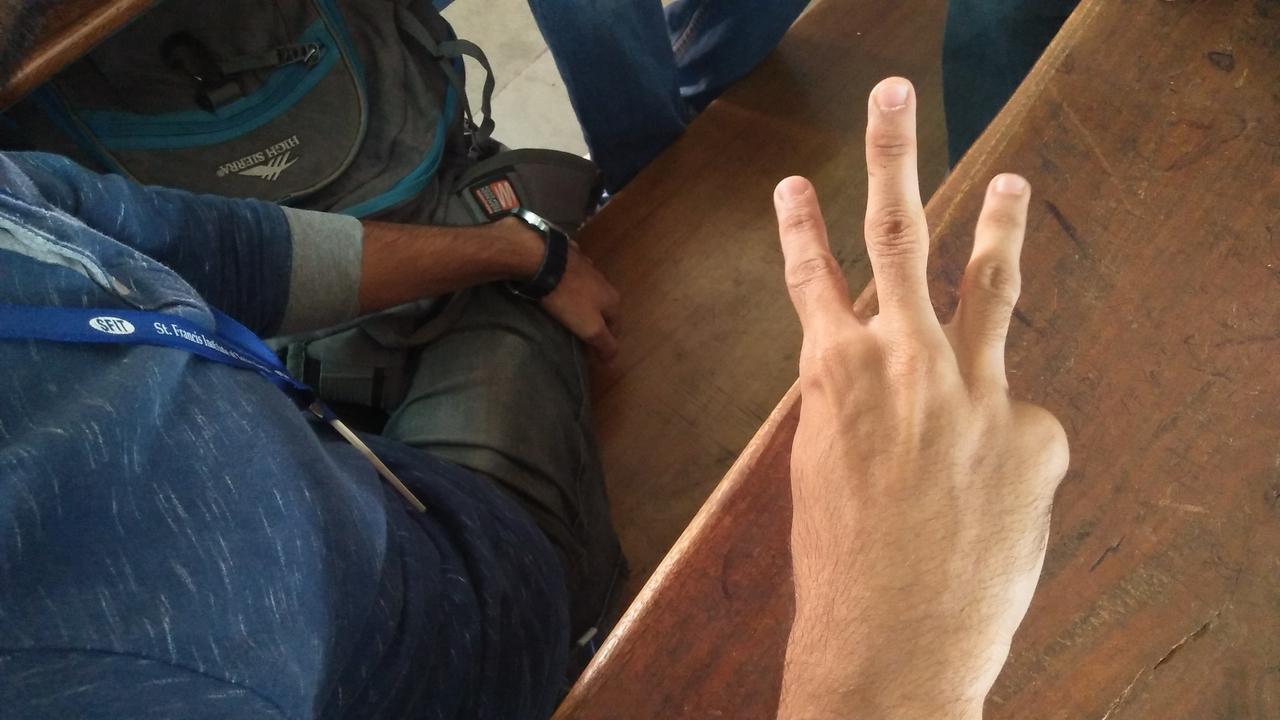fingertip: (978, 160, 1042, 226), (862, 70, 926, 132), (766, 162, 830, 222)
